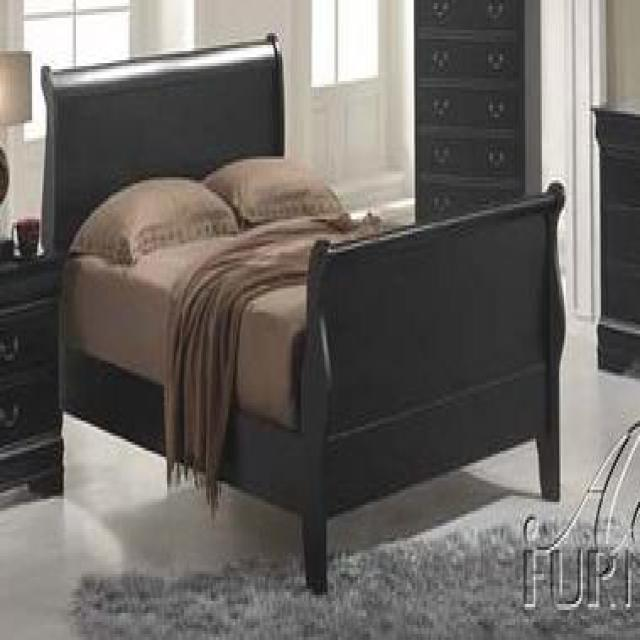bed: (33, 29, 570, 596)
